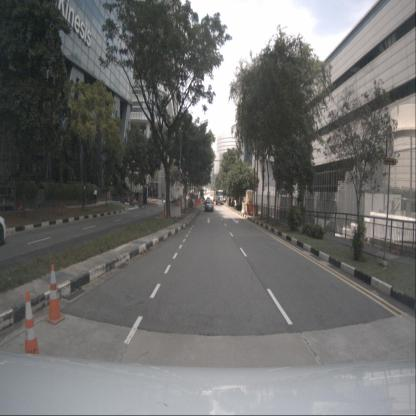human-pedestrian-adult: (94, 187, 97, 205), (134, 190, 137, 202), (200, 196, 202, 212), (136, 191, 139, 201), (132, 190, 134, 202)
movable_object-barrier: (165, 202, 181, 218), (246, 204, 259, 215), (240, 202, 246, 214), (188, 198, 196, 206), (195, 199, 201, 206), (139, 195, 142, 202)
movable_object-trafficcone: (19, 292, 42, 366), (44, 263, 66, 324), (2, 198, 6, 212), (18, 204, 23, 211), (162, 208, 165, 217), (127, 197, 130, 203)
vehicle-bus-rigid: (215, 190, 223, 204)
vehicle-car: (0, 214, 7, 246), (204, 198, 214, 212)
